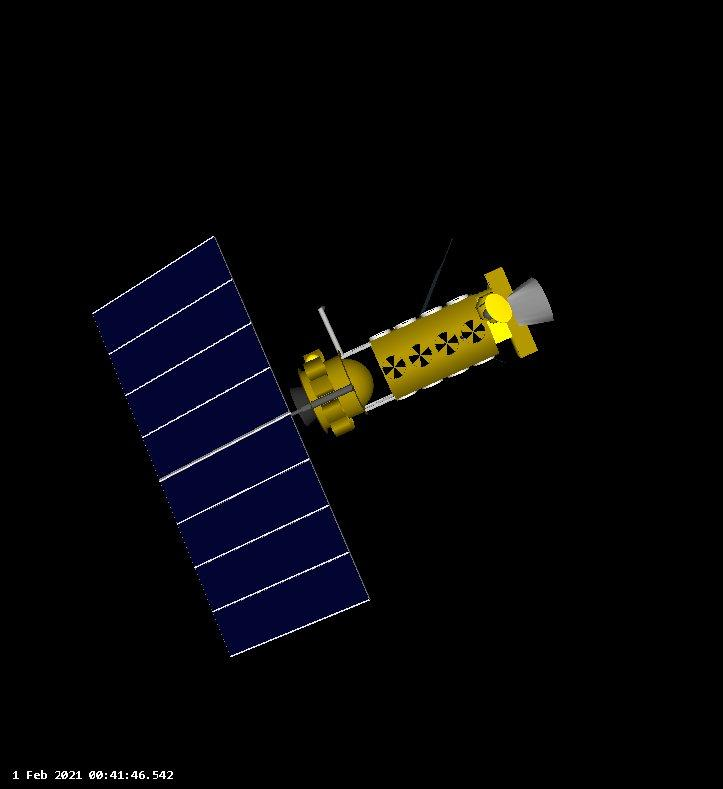antenna: (420, 232, 461, 318), (315, 303, 349, 359)
solar: (91, 234, 374, 659)
thruster: (506, 273, 557, 327), (288, 383, 316, 428)
